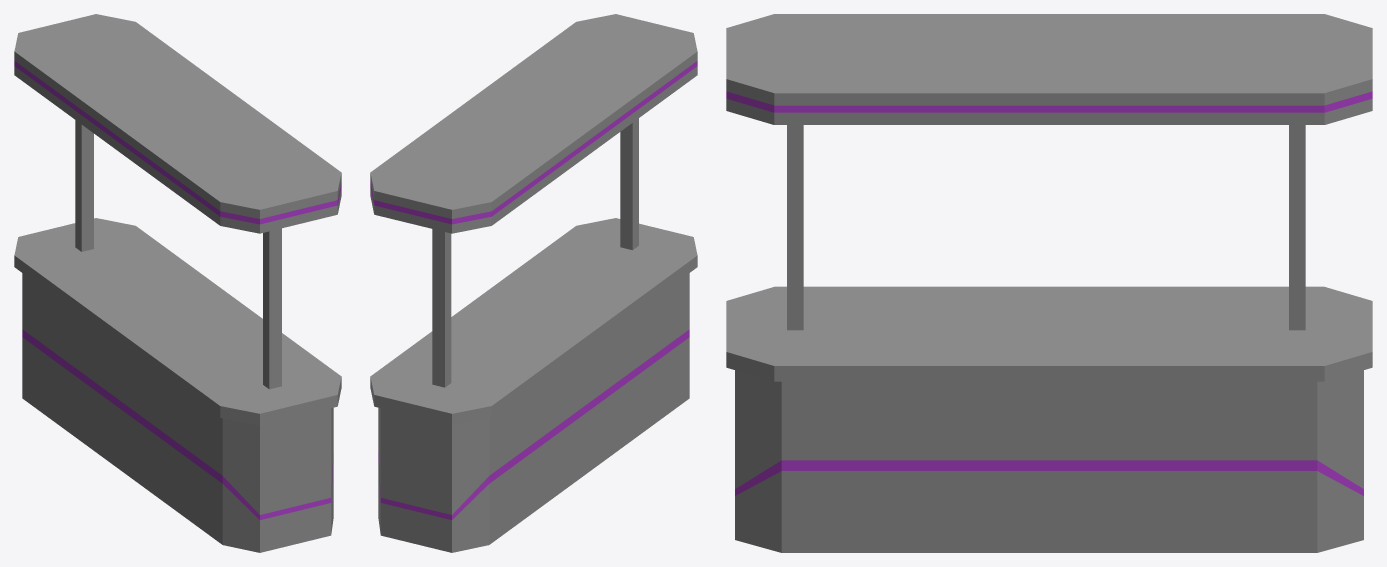
The model's file is seatingstand.fbx.
3 views of the same model, side by side, from view 1: azimuth 30°, elevation 25°; view 2: azimuth 150°, elevation 25°; view 3: azimuth 270°, elevation 25° (orthographic). The views are drawn at different scales.
Parts seen in each view (by area): view 1: seatingstand; view 2: seatingstand; view 3: seatingstand.
Boxes of the visible parts, bbox=[...] form: seatingstand: bbox=[14, 14, 341, 552]; seatingstand: bbox=[370, 14, 697, 552]; seatingstand: bbox=[726, 14, 1372, 552].
Bounding box in the file's own units: 1.14 × 3.1 × 3.92.
